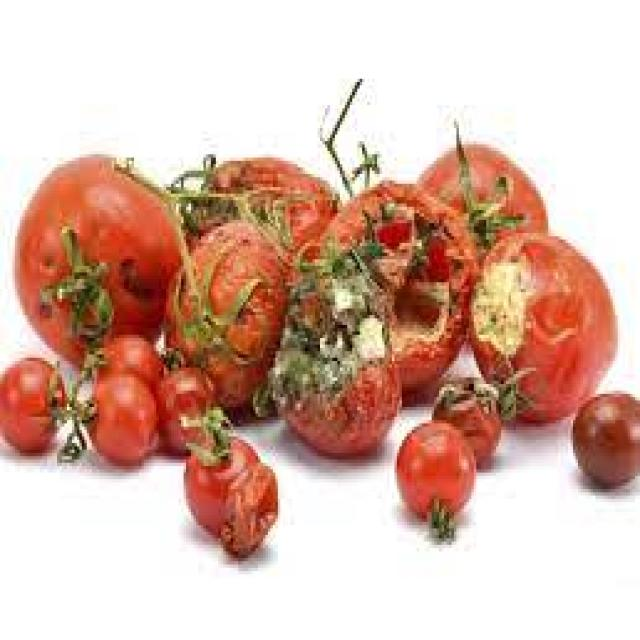overripe tomato: (8, 64, 633, 558)
